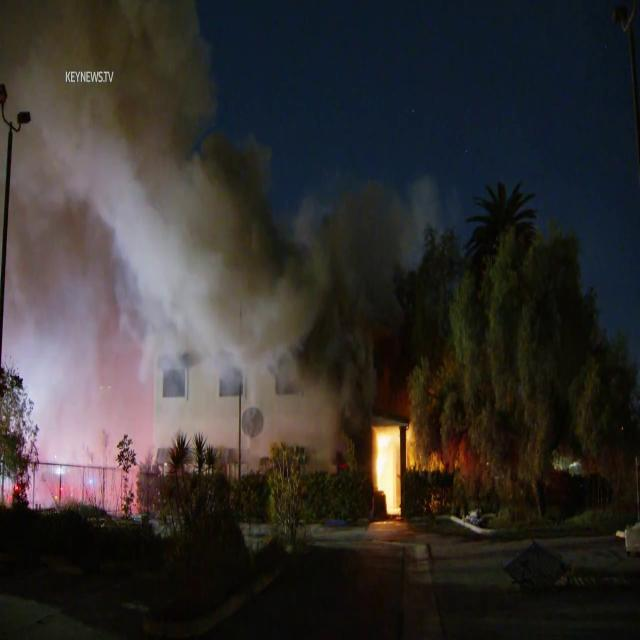Fire: (368, 414, 419, 518), (425, 446, 447, 479)
Smoke: (0, 0, 344, 427), (281, 146, 475, 296)
